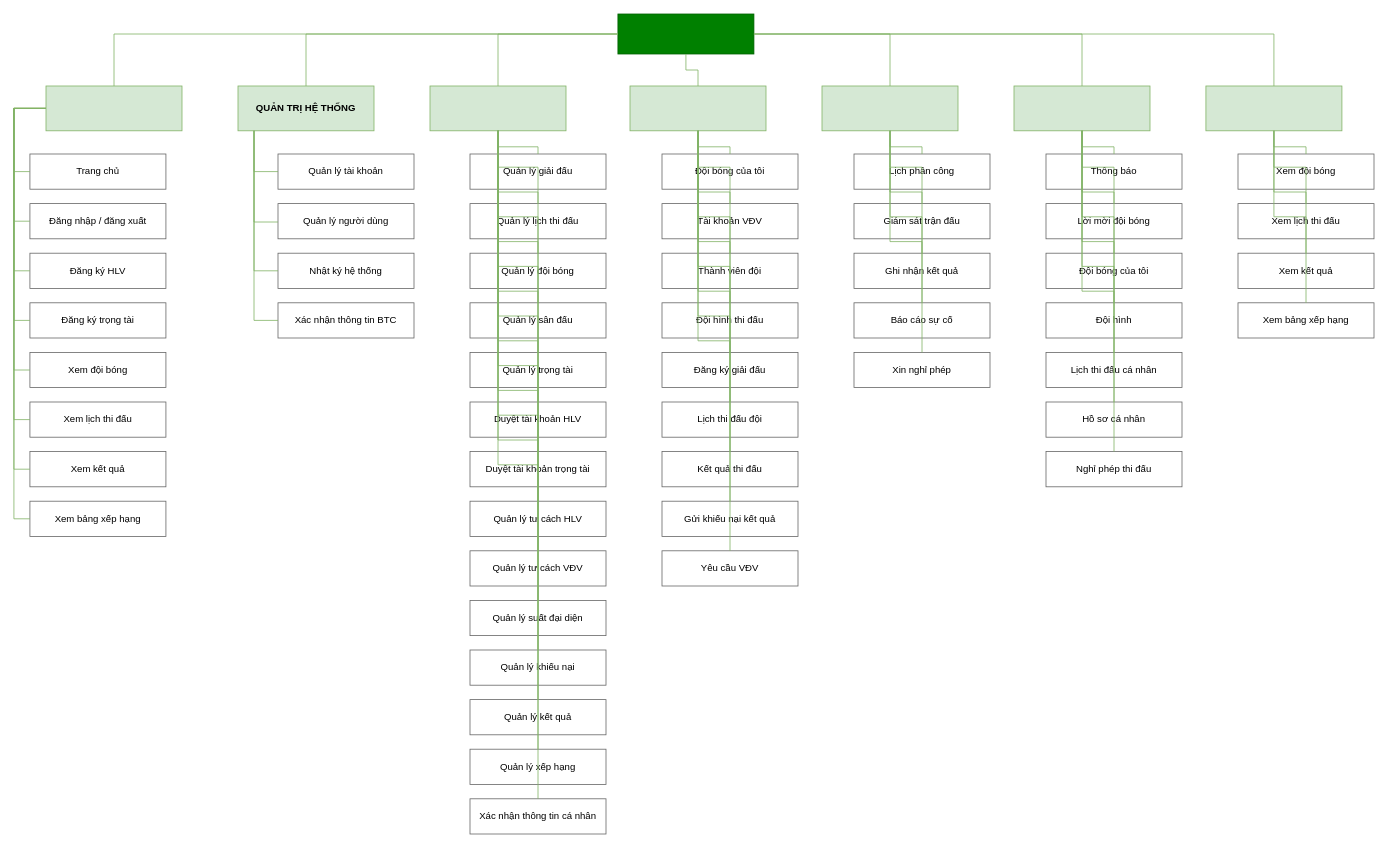
The diagram is 1389 pixels wide and 848 high, and some of its shapes have lost their labels. Here are the shapes that lost their labels. From the top down, the centre of each, then its label:
the point at 685,33: VTMS
the point at 113,108: CÔNG KHAI
the point at 497,108: BAN TỔ CHỨC
the point at 697,108: HUẤN LUYỆN VIÊN
the point at 889,108: TRỌNG TÀI
the point at 1081,108: VẬN ĐỘNG VIÊN
the point at 1273,108: KHÁN GIẢ
